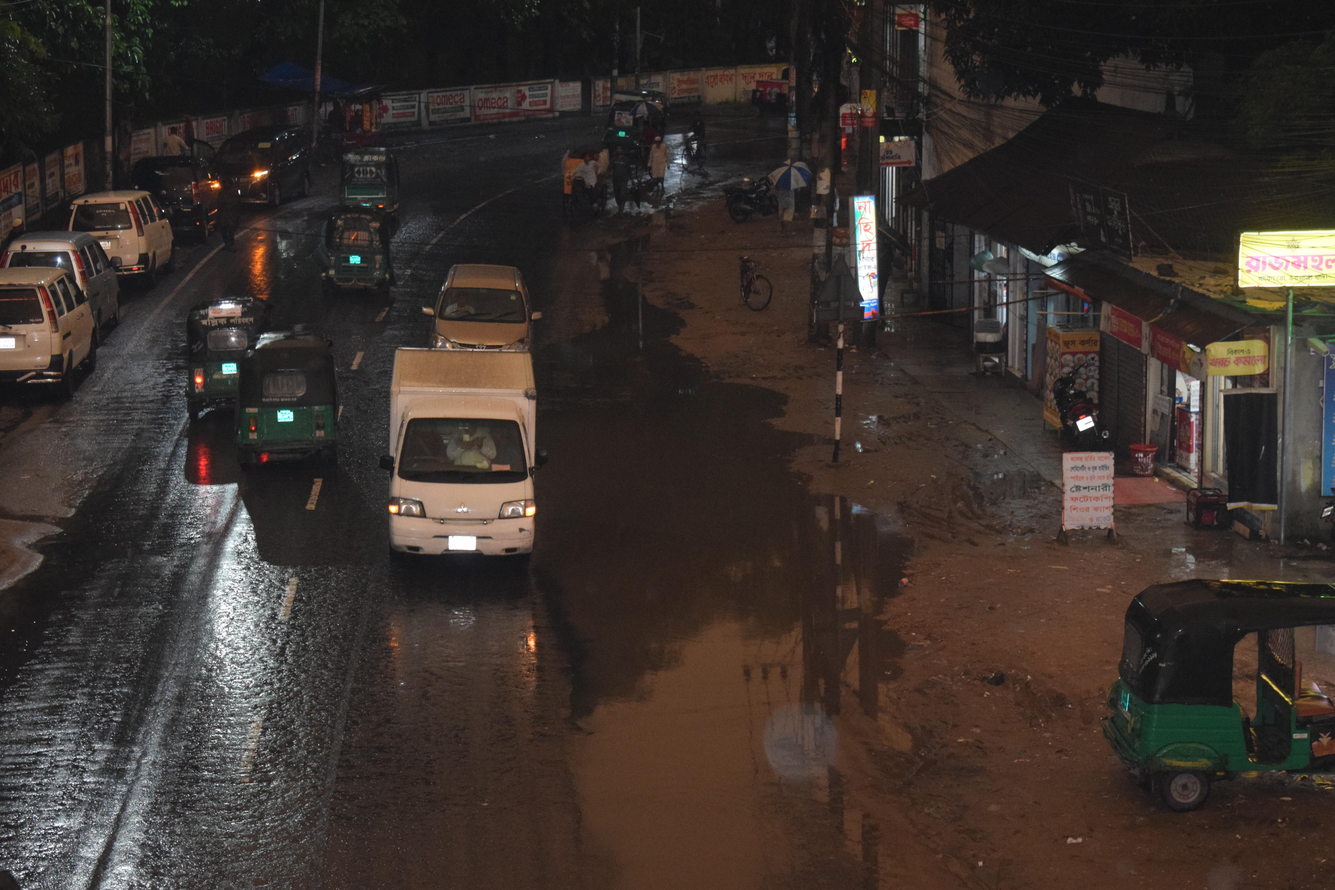Car: (362, 314, 577, 603), (0, 246, 124, 419), (59, 171, 193, 296), (424, 242, 551, 366), (209, 106, 328, 222), (114, 140, 235, 250)
